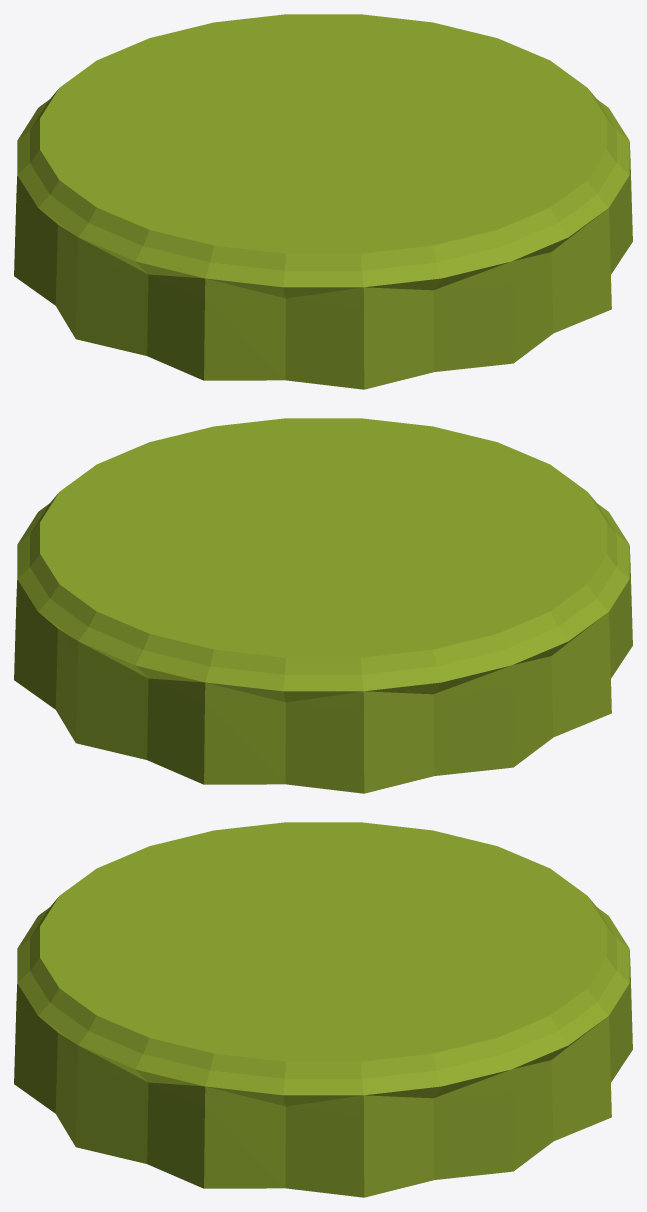
The model's file is SM_Cook_CandyJarLid_01.fbx.
The picture shows the model from 3 angles, top to bottom: view 1: azimuth 30°, elevation 25°; view 2: azimuth 150°, elevation 25°; view 3: azimuth 270°, elevation 25°; orthographic projection.
Parts seen in each view (by area): view 1: SM_Cook_CandyJarLid_01; view 2: SM_Cook_CandyJarLid_01; view 3: SM_Cook_CandyJarLid_01.
Part boxes in pixels (bbox=[...]): SM_Cook_CandyJarLid_01: bbox=[14, 14, 632, 389]; SM_Cook_CandyJarLid_01: bbox=[14, 418, 632, 793]; SM_Cook_CandyJarLid_01: bbox=[14, 822, 632, 1197].
Size of the model in its own units: 0.1527 by 0.034 by 0.1527.
Materials: 1 (1 with a texture image).
